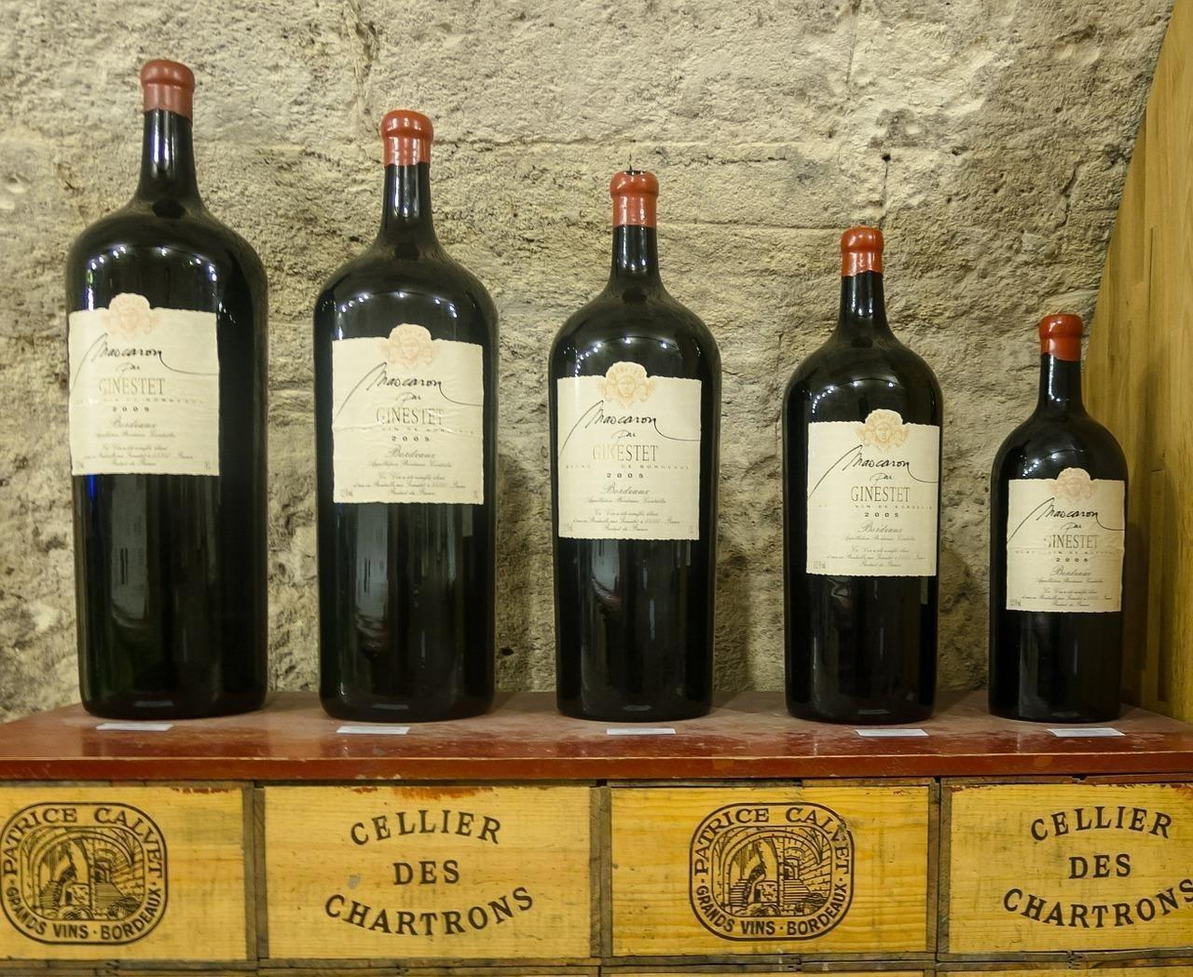bottle-glass: (58, 58, 271, 724), (308, 104, 504, 724), (544, 157, 729, 721), (775, 219, 952, 726), (976, 305, 1143, 728)
